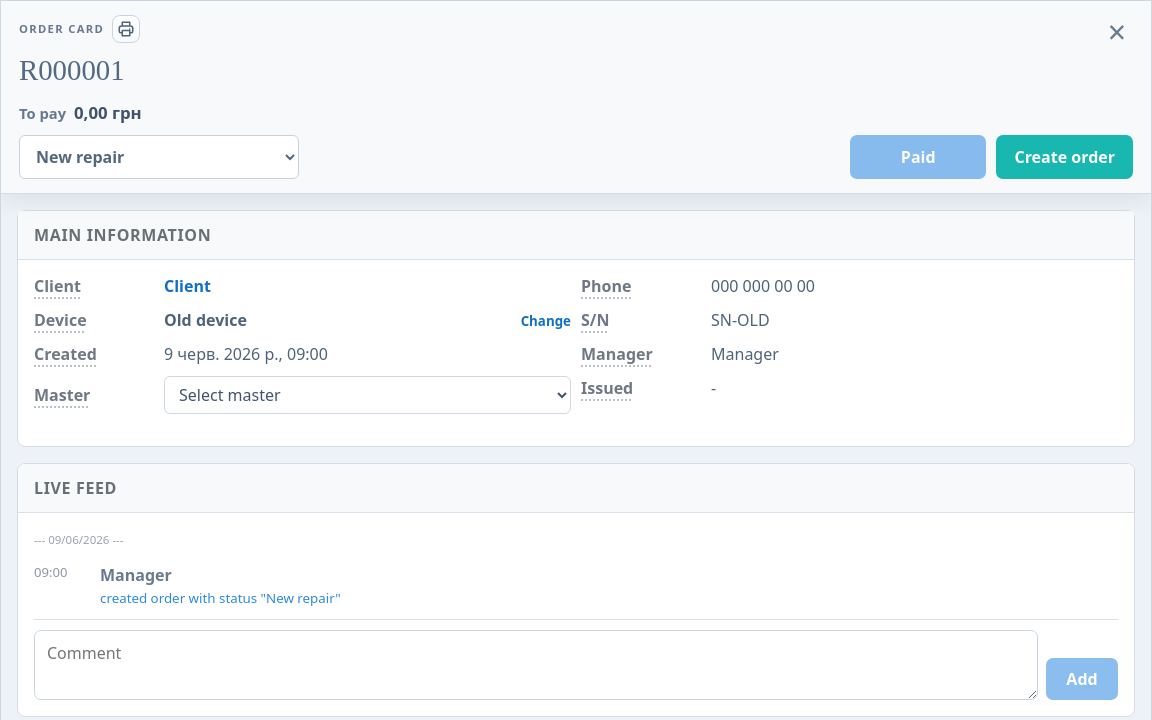
OrderDetailCard repair device replacement › finds active devices through the same lookup used by create order
Click the button with aria-label "Change device" at (205, 320), box [164,308,571,332]
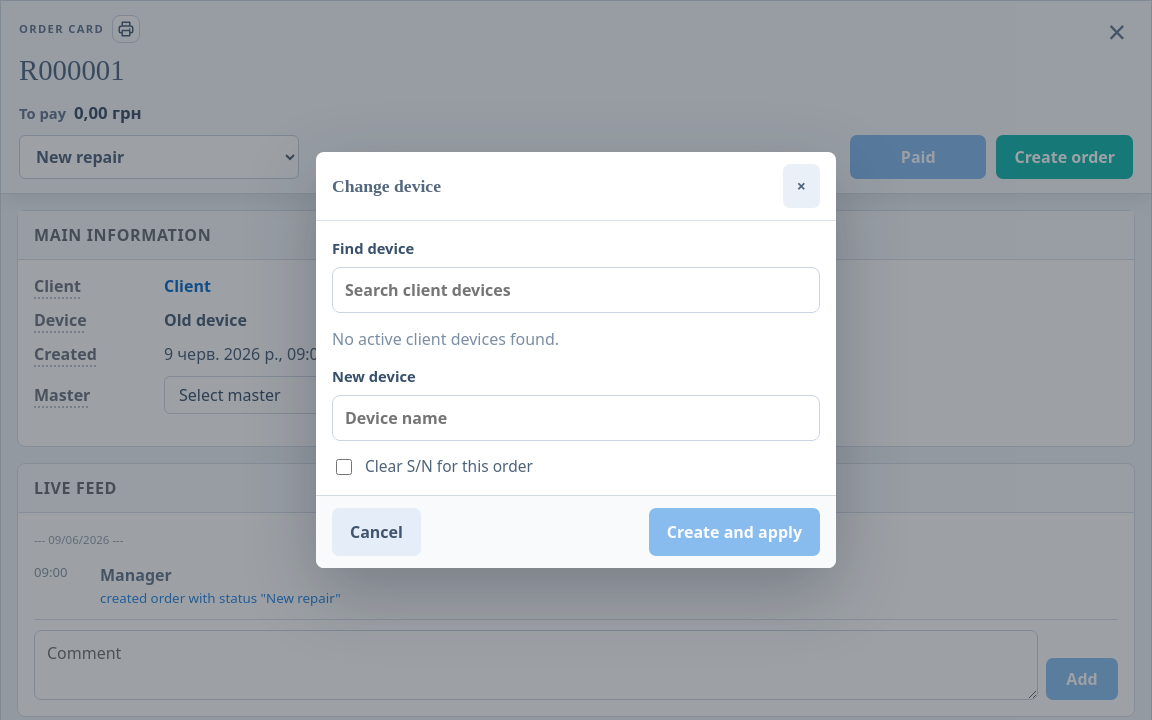
Type "Lookup RZTK coffee machine" into the field with placeholder "Search client devices" at (576, 290), box [332,267,820,313]
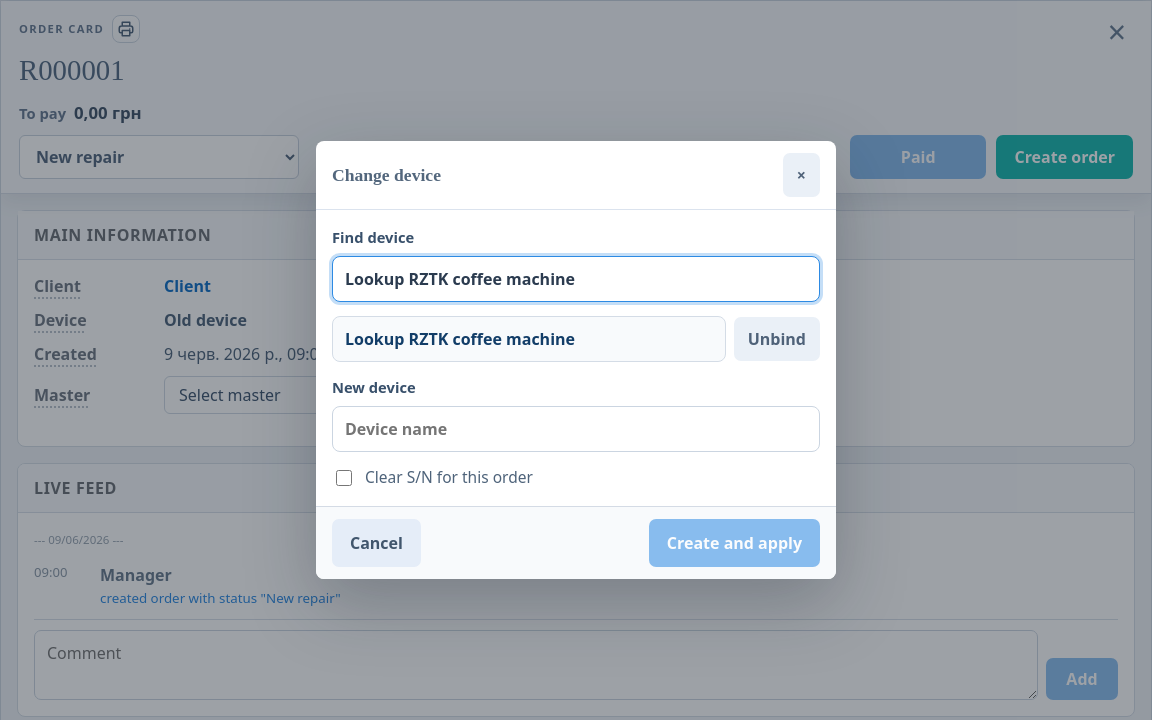
Result: the button "Lookup RZTK coffee machine" is shown at [332,316,726,362]
